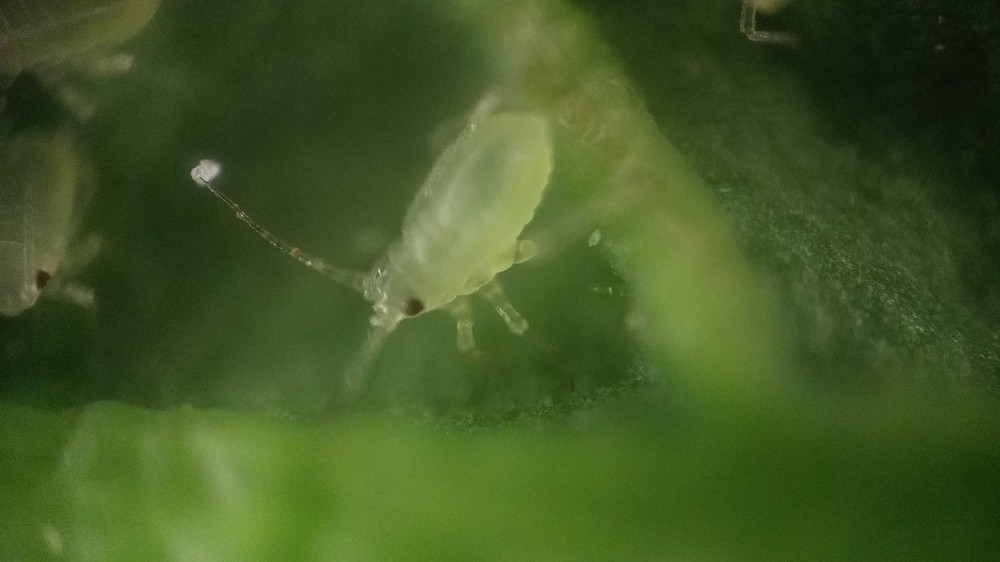Pulgon: (202, 81, 638, 400), (1, 108, 140, 356)
